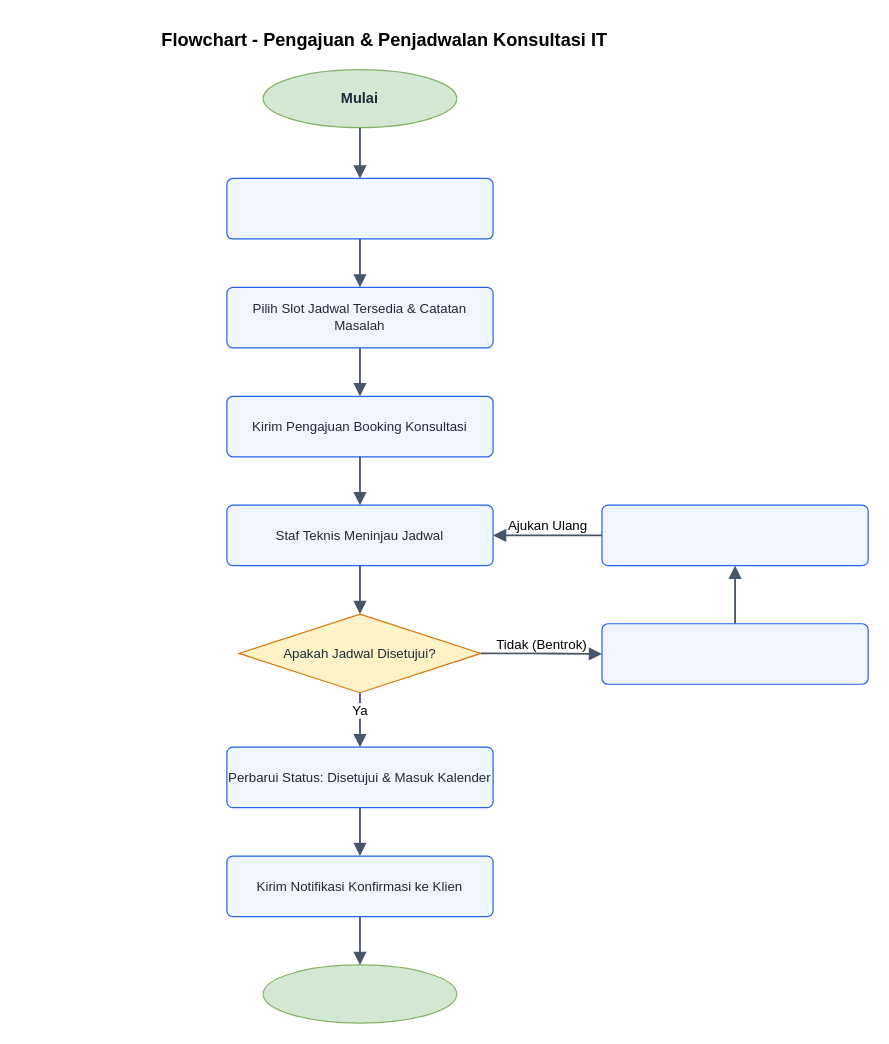
Image size: 889x1044. Some labels were removed from this diagram. Each missing label, with the box of its shape:
Kirim Rekomendasi Jadwal Baru ke Klien: (601, 623, 868, 684)
Klien Memilih Alternatif Jadwal Baru: (601, 504, 868, 566)
Pilih Layanan IT dari Katalog: (226, 177, 493, 239)
Selesai: (262, 964, 457, 1023)
